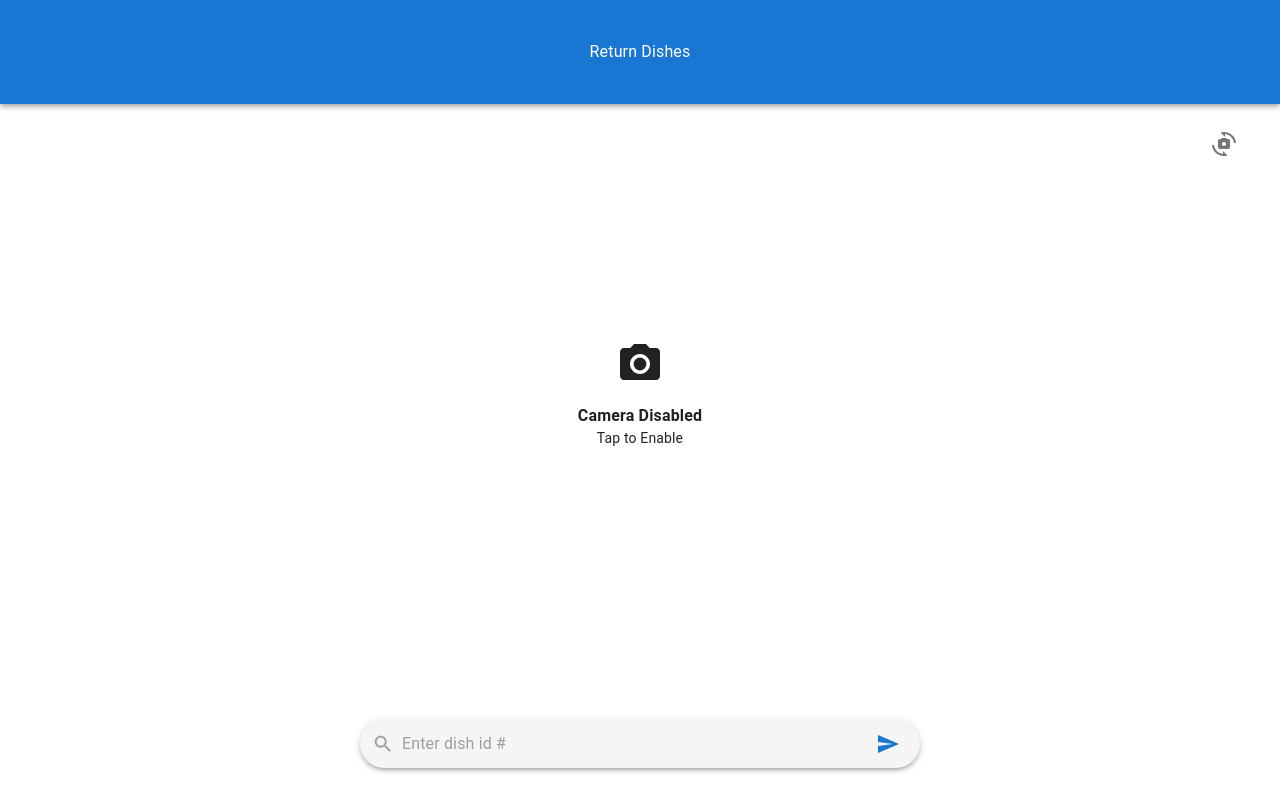
returns a borrowed dish and opens the success popup
The width and height of the screenshot is (1280, 800).
Type "6" into the field with placeholder "Enter dish id #". click: [635, 744]
box: [402,728,868,760]
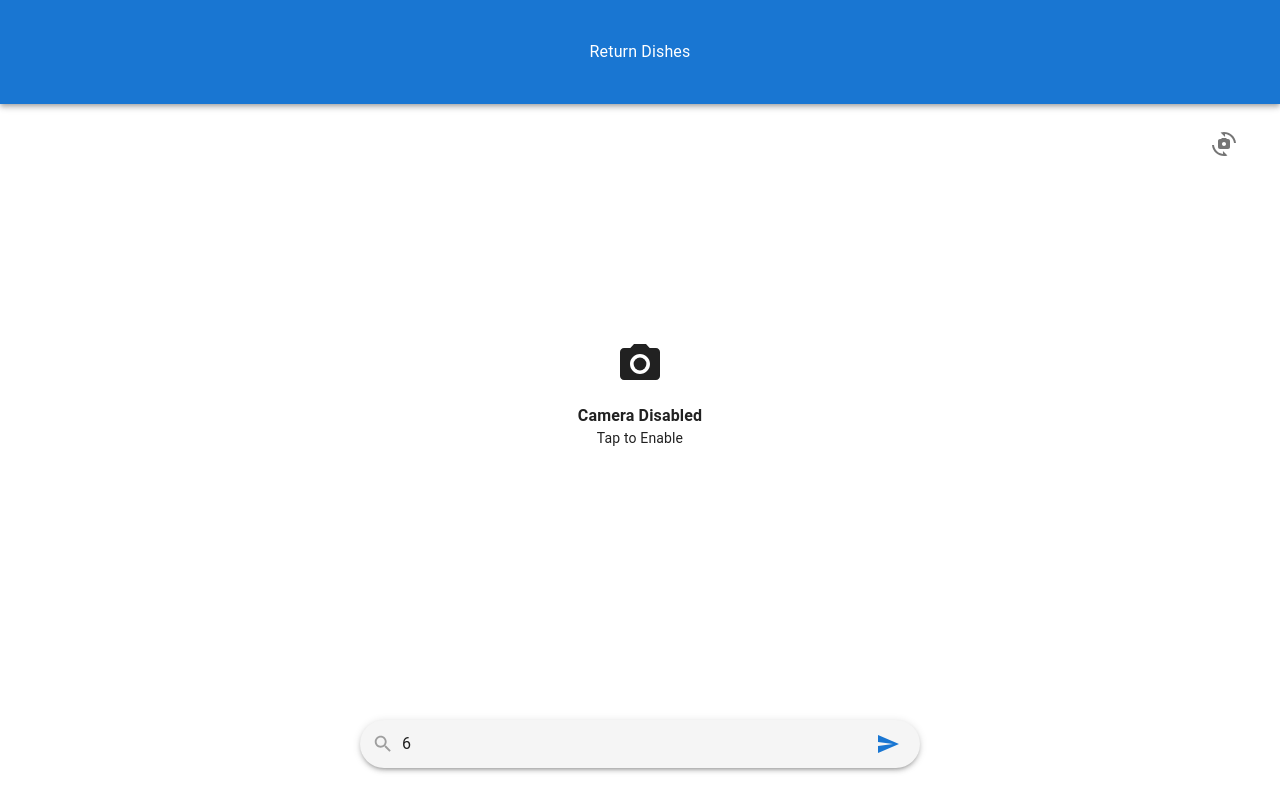
Click the button with test id "return-btn". click: [888, 744]
box: [868,724,908,764]
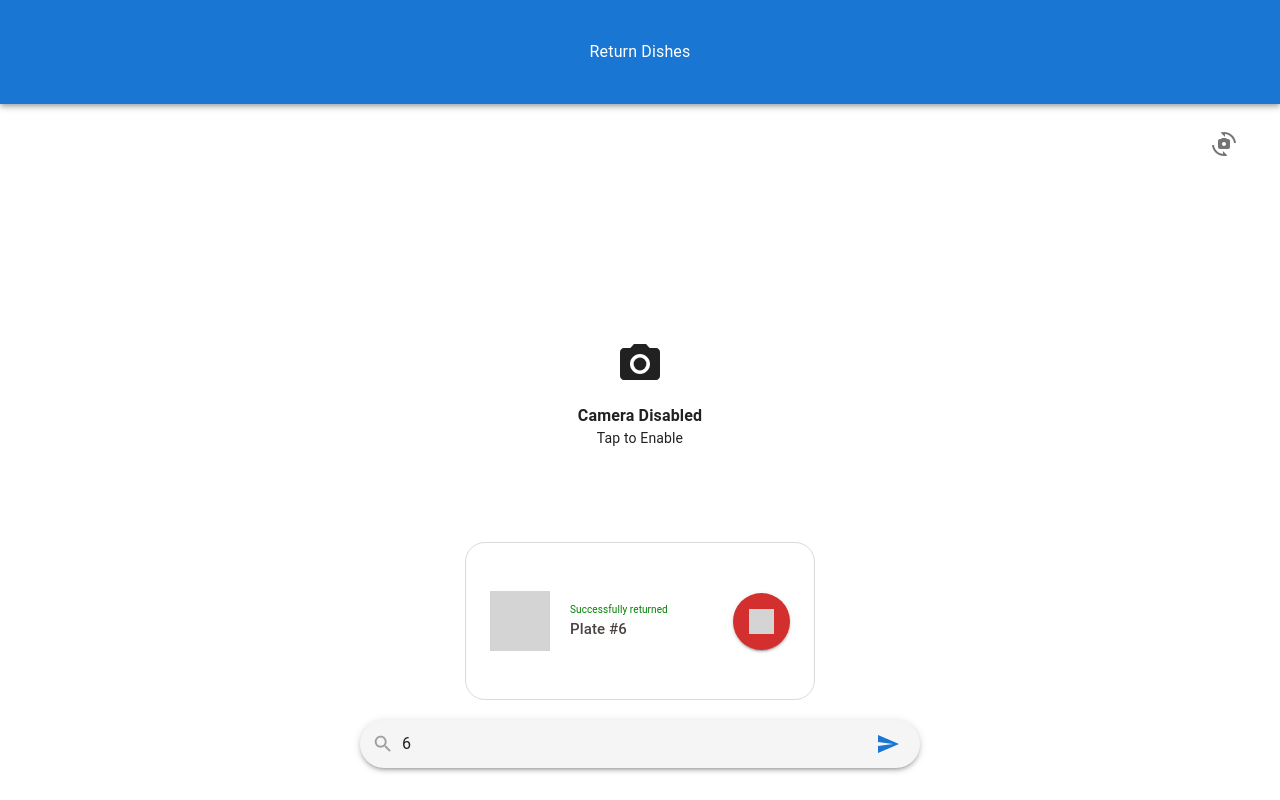
Check: the text "Successfully returned" is shown, box [570,602,668,616]
Check: the heading "Plate #6" is shown, box [570,620,627,638]
